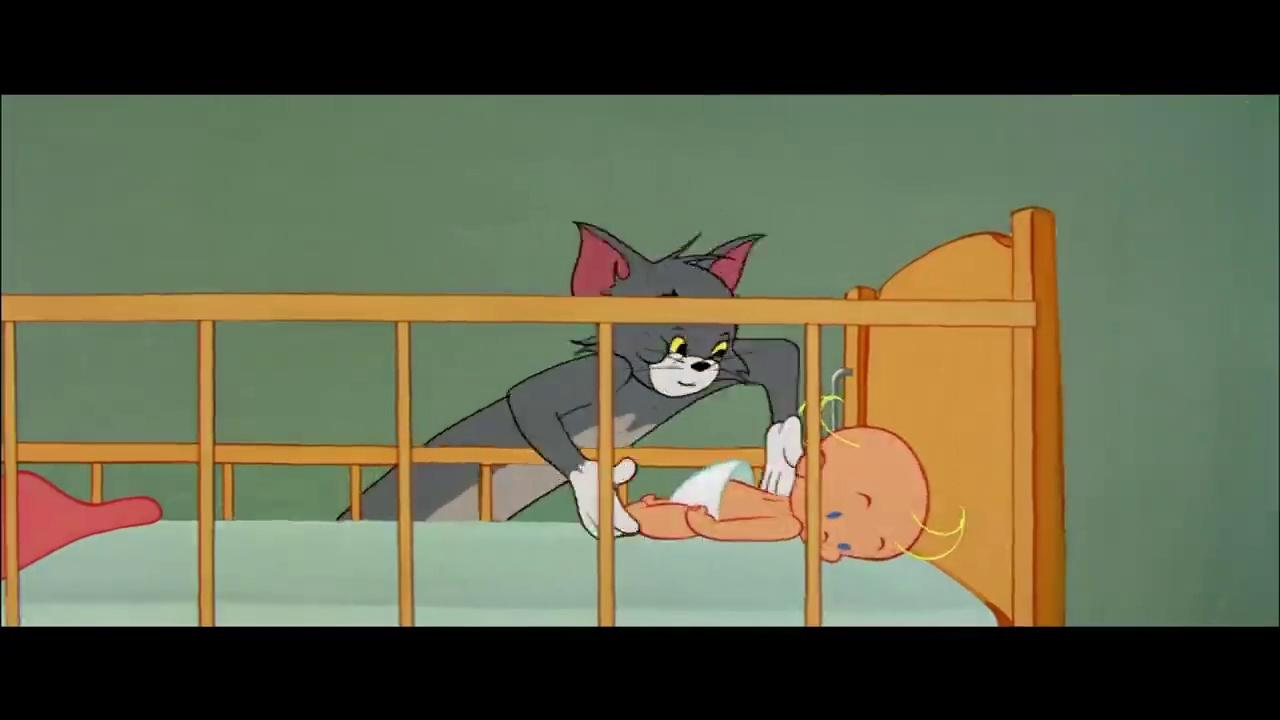Tom: (336, 216, 807, 540)
